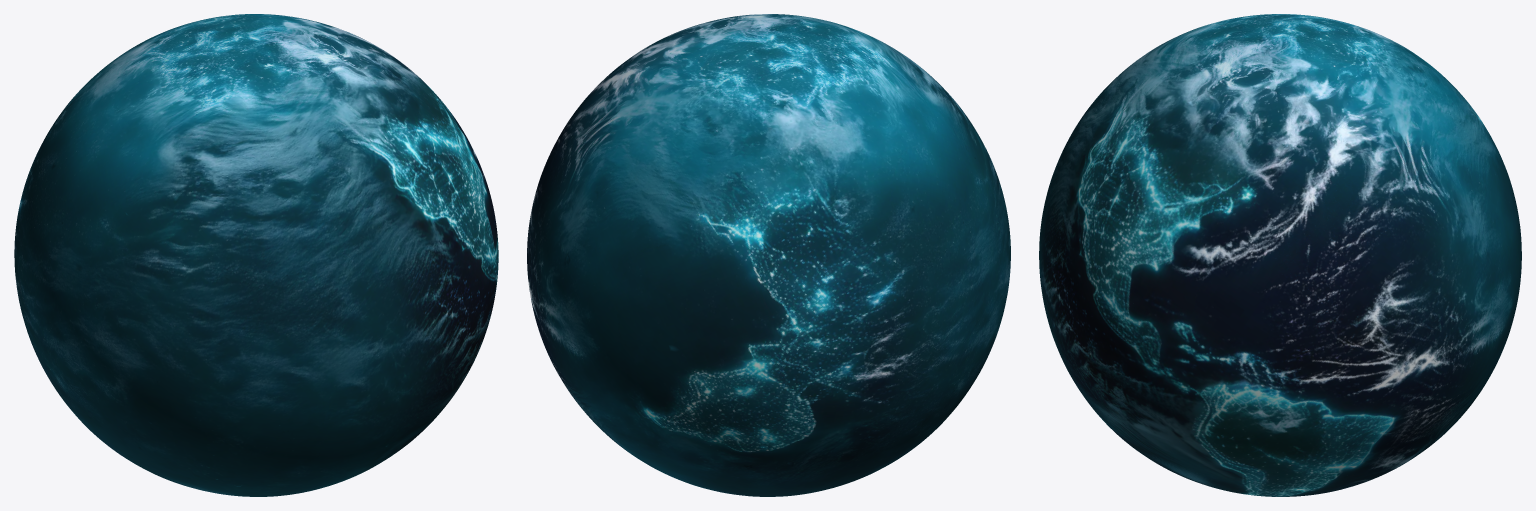
The model's file is Earth.glb.
3 renders of one model, left to right at view 1: azimuth 30°, elevation 25°; view 2: azimuth 150°, elevation 25°; view 3: azimuth 270°, elevation 25°, orthographic.
Parts seen in each view (by area): view 1: node_0; view 2: node_0; view 3: node_0.
Boxes of the visible parts, x1=… form: node_0: x1=14, y1=14, x2=498, y2=496; node_0: x1=527, y1=14, x2=1010, y2=496; node_0: x1=1039, y1=14, x2=1521, y2=496.
Bounding box in the file's own units: 1.19 × 1.19 × 1.19.
Materials: 1 (1 with a texture image).
